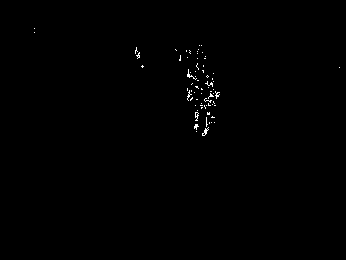person: (187, 62, 221, 140)
